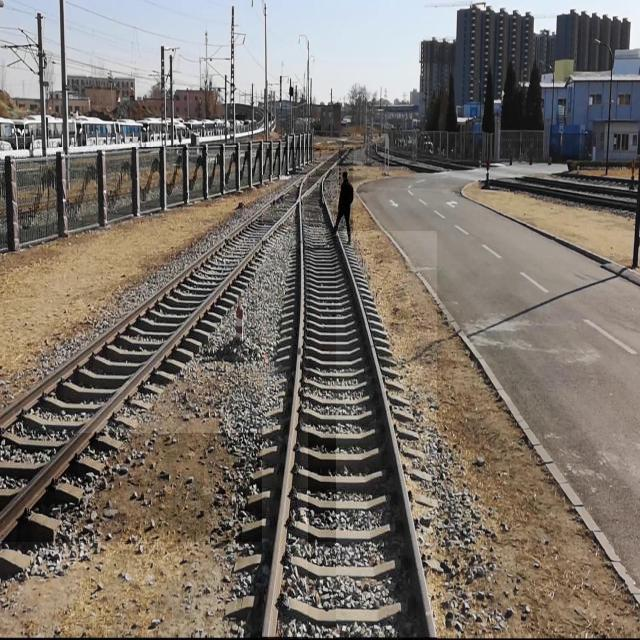rail: (1, 149, 354, 543), (1, 152, 340, 434), (338, 232, 438, 640), (263, 177, 309, 639), (323, 178, 336, 229)
